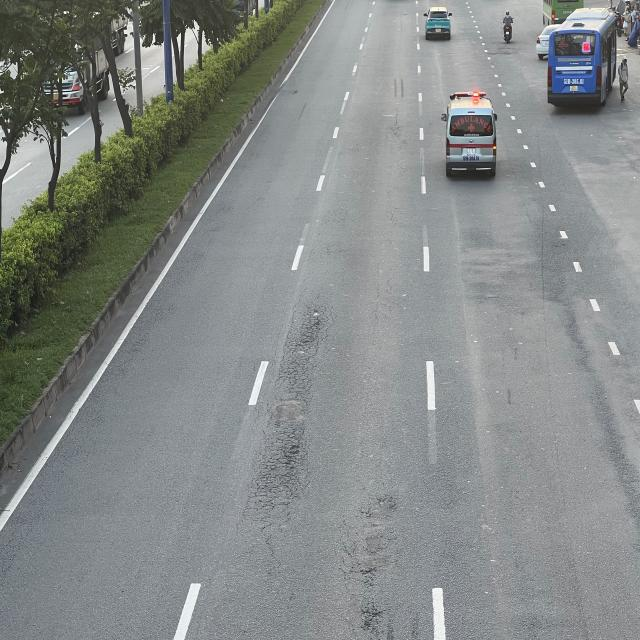car: (424, 7, 453, 40)
coach: (546, 6, 616, 105)
van: (444, 92, 499, 179)
